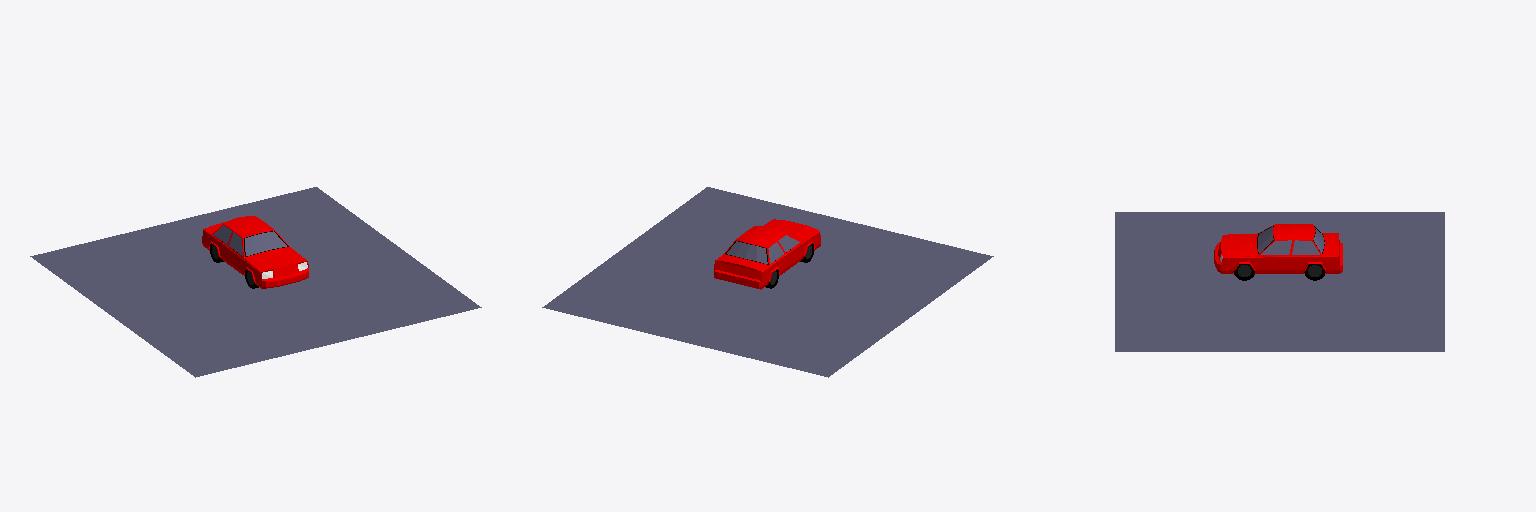
Rendered from Car.obj.
3 views of the same model, side by side, from view 1: azimuth 30°, elevation 25°; view 2: azimuth 150°, elevation 25°; view 3: azimuth 270°, elevation 25° (orthographic).
Parts seen in each view (by area): view 1: GroundPlane, Car_Cube; view 2: GroundPlane, Car_Cube; view 3: GroundPlane, Car_Cube.
Boxes of the visible parts, <box> form: GroundPlane: <box>30,187,481,377</box>; Car_Cube: <box>202,216,308,288</box>; GroundPlane: <box>542,187,993,377</box>; Car_Cube: <box>714,219,820,289</box>; GroundPlane: <box>1115,212,1444,351</box>; Car_Cube: <box>1214,224,1342,280</box>.
Bounding box in the file's own units: 12 × 2.09 × 12.